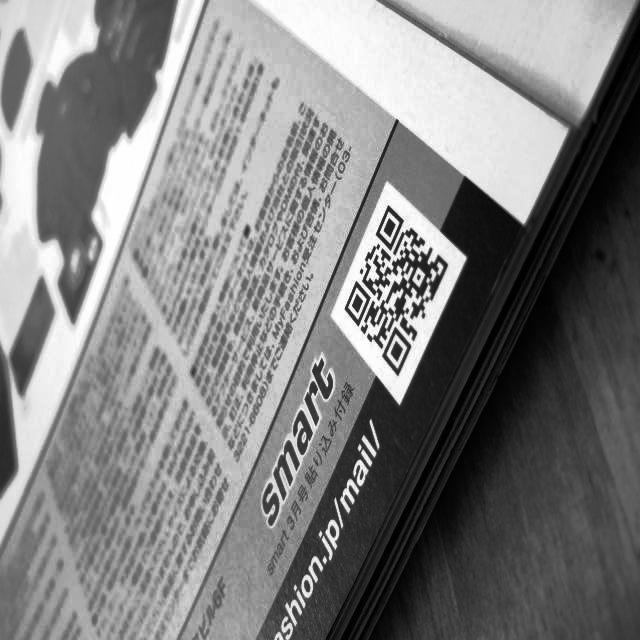qr_code: (344, 206, 448, 376)
